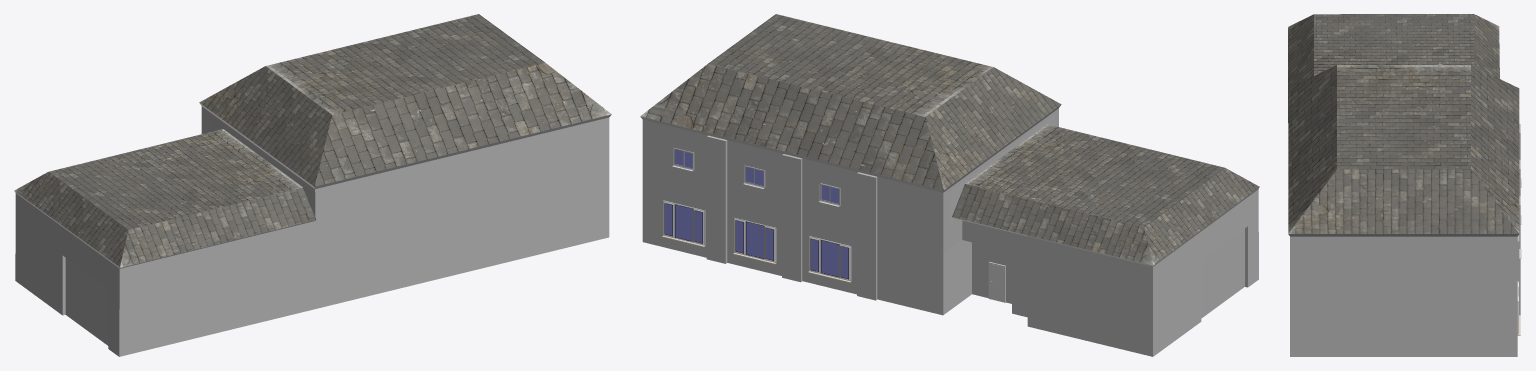
The model's file is house build 3.fbx.
3 renders of one model, left to right at view 1: azimuth 30°, elevation 25°; view 2: azimuth 150°, elevation 25°; view 3: azimuth 270°, elevation 25°, orthographic. The views are drawn at different scales.
Parts seen in each view (by area): view 1: Cube; view 2: Cube, Window.002, Window, Window.001, Door; view 3: Cube.
Part boxes in pixels (box(x1,y1,x2,y2)): Cube: box(14, 14, 611, 356); Cube: box(640, 14, 1259, 356); Window.002: box(808, 236, 851, 282); Window: box(662, 200, 705, 247); Window.001: box(733, 217, 776, 264); Door: box(990, 264, 1003, 302); Cube: box(1288, 14, 1520, 356).
Bounding box in the file's own units: 3014 × 978 × 1235.
